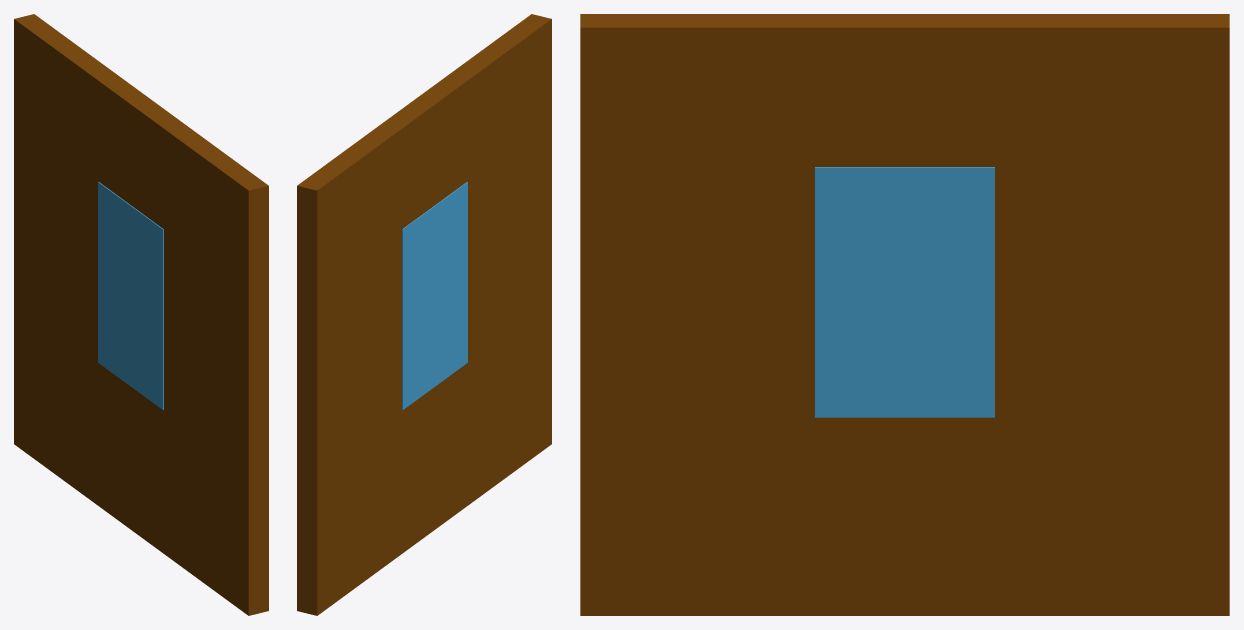
File: window.fbx
3 renders of one model, left to right at view 1: azimuth 30°, elevation 25°; view 2: azimuth 150°, elevation 25°; view 3: azimuth 270°, elevation 25°, orthographic. The views are drawn at different scales.
Visible parts, largest first — view 1: Cube, Cube.001; view 2: Cube, Cube.001; view 3: Cube, Cube.001.
Boxes of the visible parts, bbox=[...] form: Cube: bbox=[14, 14, 268, 615]; Cube.001: bbox=[98, 182, 163, 409]; Cube: bbox=[297, 14, 551, 615]; Cube.001: bbox=[402, 182, 467, 409]; Cube: bbox=[580, 14, 1229, 615]; Cube.001: bbox=[815, 167, 994, 417].
Bounding box in the file's own units: 10.77 × 200 × 200.
